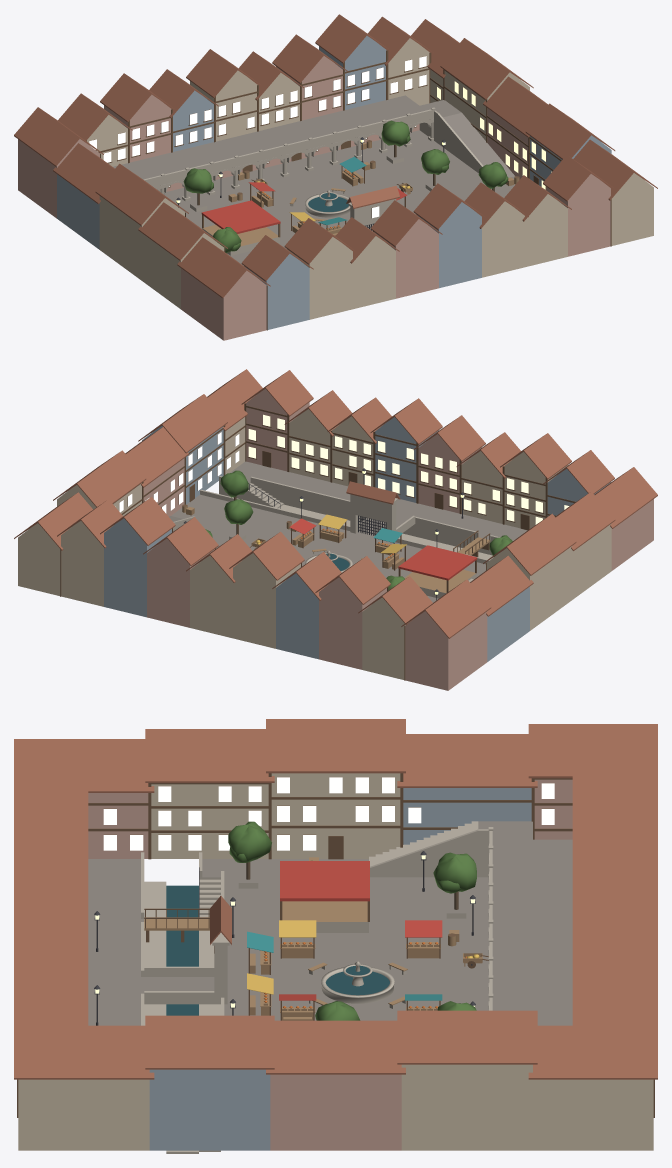
File: market.glb
3 views of the same model, one above another, from view 1: azimuth 30°, elevation 25°; view 2: azimuth 150°, elevation 25°; view 3: azimuth 270°, elevation 25° (orthographic). The views are drawn at different scales.
Visible parts, largest first — view 1: Roofs, Market_Plaster, Market_Cobble, Market_PlasterRose, Market_PlasterBlue, Market_Stone, Market_Timber, Market_WindowGlow, Foliage, Market_ClothRed, Market_Wood, Water; view 2: Roofs, Market_Plaster, Market_PlasterRose, Market_PlasterBlue, Market_Cobble, Market_Stone, Market_Timber, Market_WindowGlow, Market_Wood, Market_ClothRed, Foliage; view 3: Roofs, Market_Cobble, Market_Plaster, Market_PlasterRose, Market_PlasterBlue, Market_Stone, Market_Timber, Market_WindowGlow, Market_Wood, Market_ClothRed, Water, Foliage (+2 smaller).
Part boxes in pixels (bbox=[...]): Roofs: bbox=[14, 14, 657, 298]; Market_Plaster: bbox=[87, 38, 653, 319]; Market_Cobble: bbox=[113, 95, 515, 265]; Market_PlasterRose: bbox=[18, 56, 610, 340]; Market_PlasterBlue: bbox=[57, 36, 611, 329]; Market_Stone: bbox=[143, 107, 483, 255]; Market_Timber: bbox=[86, 50, 611, 330]; Market_WindowGlow: bbox=[89, 56, 551, 218]; Foliage: bbox=[183, 120, 508, 252]; Market_ClothRed: bbox=[201, 182, 407, 233]; Market_Wood: bbox=[203, 141, 519, 246]; Water: bbox=[308, 193, 348, 211]; Roofs: bbox=[14, 369, 657, 638]; Market_Plaster: bbox=[18, 409, 611, 679]; Market_PlasterRose: bbox=[143, 389, 653, 690]; Market_PlasterBlue: bbox=[104, 417, 610, 661]; Market_Cobble: bbox=[169, 461, 527, 602]; Market_Stone: bbox=[173, 476, 513, 598]; Market_Timber: bbox=[60, 403, 575, 680]; Market_WindowGlow: bbox=[115, 414, 569, 524]; Market_Wood: bbox=[182, 506, 490, 593]; Market_ClothRed: bbox=[289, 518, 477, 580]; Foliage: bbox=[205, 470, 512, 590]; Roofs: bbox=[14, 719, 657, 1079]; Market_Cobble: bbox=[88, 821, 572, 1025]; Market_Plaster: bbox=[18, 773, 653, 1150]; Market_PlasterRose: bbox=[88, 779, 572, 1150]; Market_PlasterBlue: bbox=[149, 788, 531, 1150]; Market_Stone: bbox=[141, 821, 493, 1153]; Market_Timber: bbox=[17, 773, 654, 1117]; Market_WindowGlow: bbox=[103, 777, 554, 850]; Market_Wood: bbox=[144, 857, 459, 1020]; Market_ClothRed: bbox=[279, 861, 442, 1000]; Water: bbox=[166, 885, 389, 1015]; Foliage: bbox=[228, 821, 476, 1020].
Bounding box in the file's own units: 70.8 × 18.55 × 58.8.
